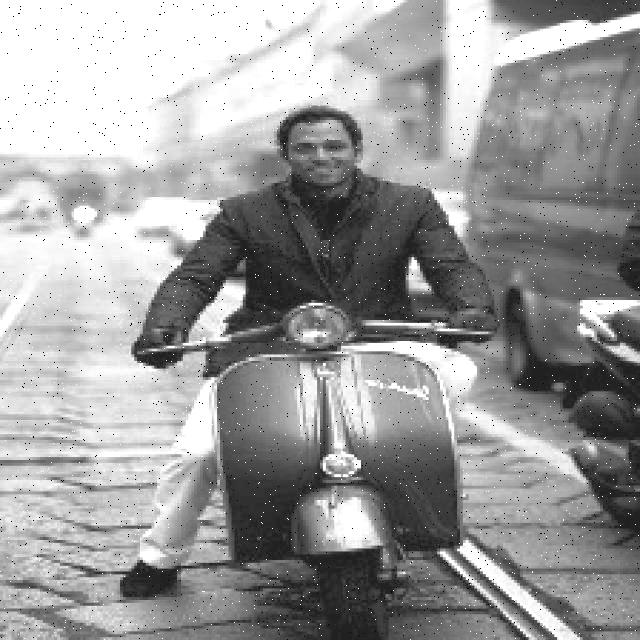Bike: (200, 322, 488, 618)
